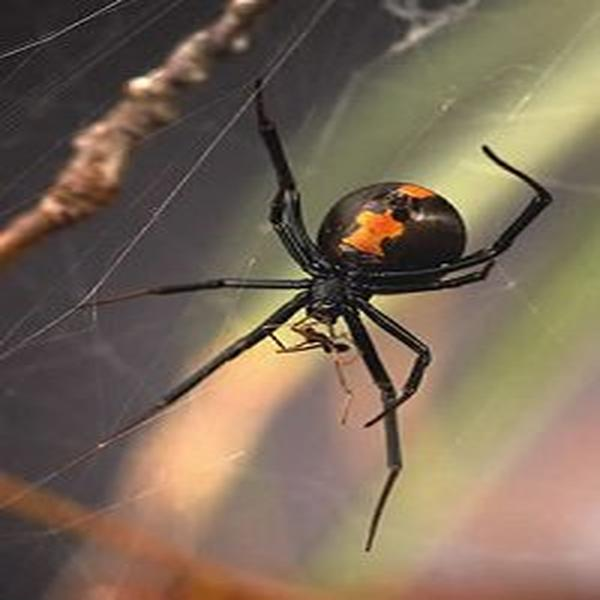Redback_Spider: (75, 77, 554, 551)
